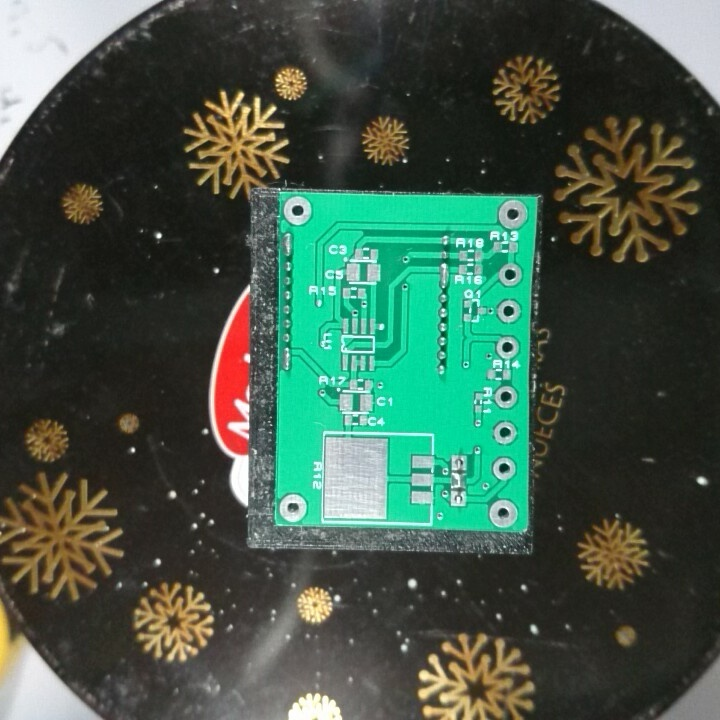F: (496, 196, 529, 232), (276, 492, 310, 524), (281, 196, 316, 226), (496, 295, 525, 329), (489, 418, 520, 449), (489, 452, 519, 484), (487, 498, 519, 528), (492, 383, 524, 412), (496, 260, 524, 291), (496, 332, 522, 363), (447, 487, 469, 510), (449, 453, 468, 474)
P: (280, 345, 296, 375), (438, 260, 452, 292), (281, 229, 296, 258)
